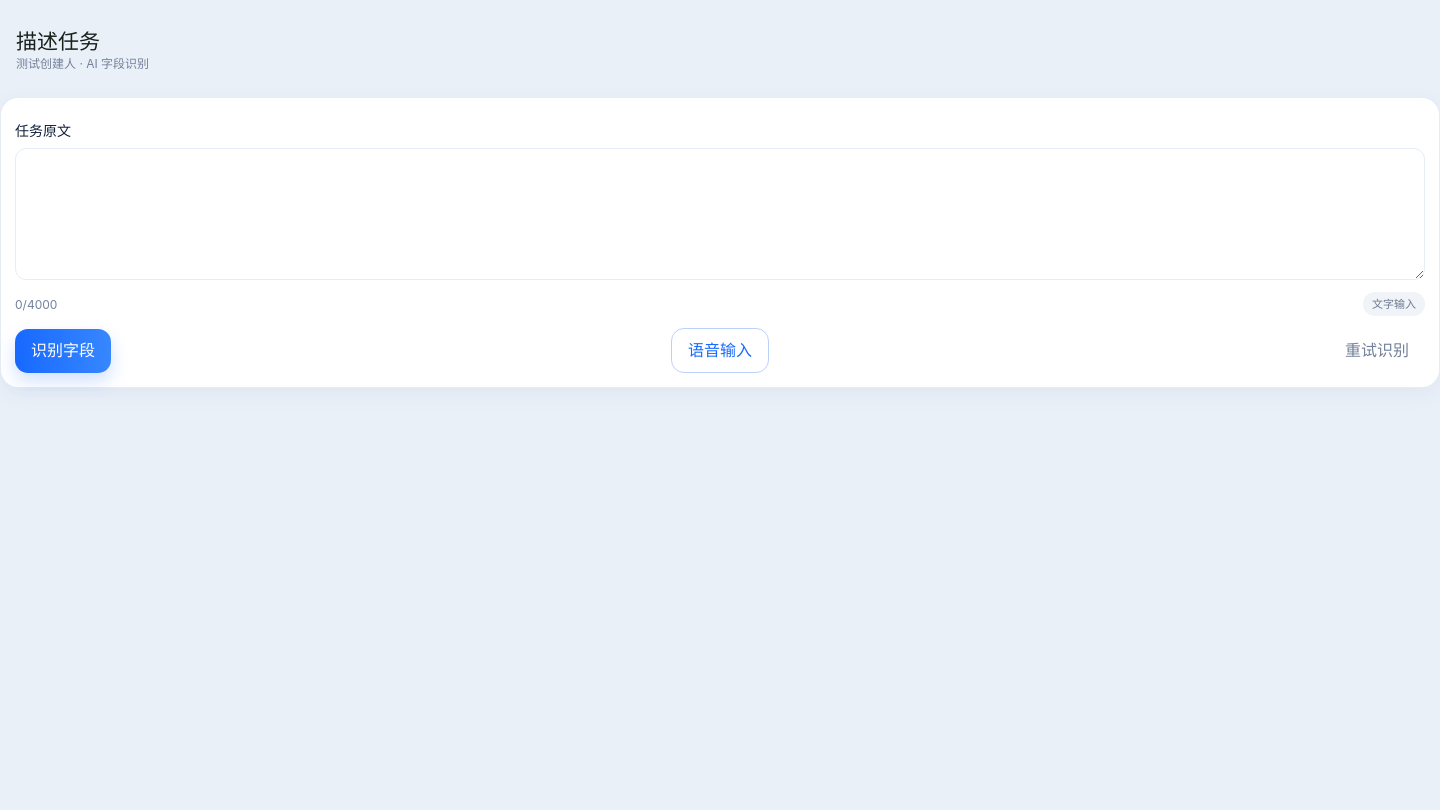
it: TaskIntakePage › retries existing extraction and surfaces safe provider errors
Type "请完成门店上线方案" into the text box labelled "任务原文" at (720, 214), box x1=15 y1=148 x2=1425 y2=280
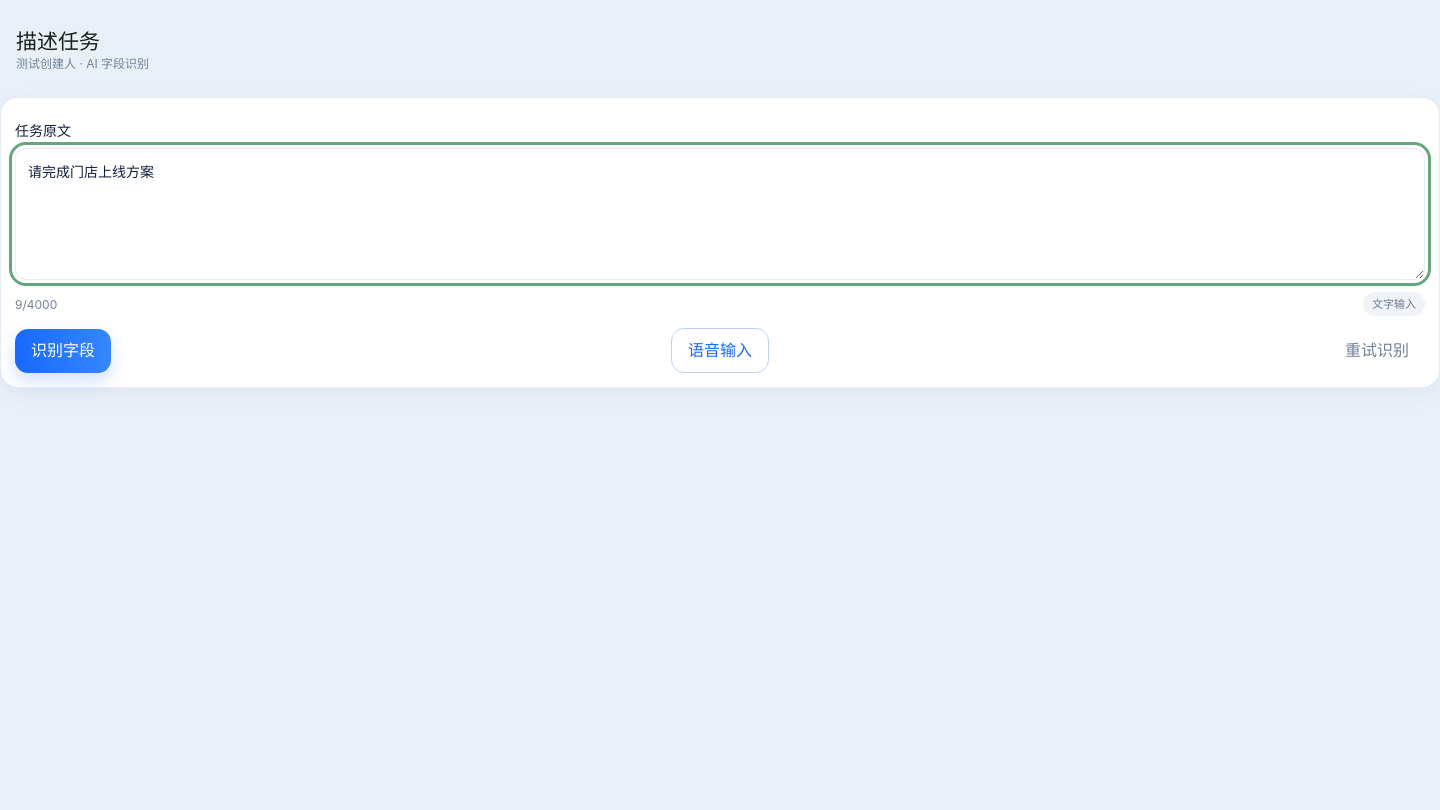
Click the button "识别字段" at (63, 351), box x1=15 y1=329 x2=111 y2=373
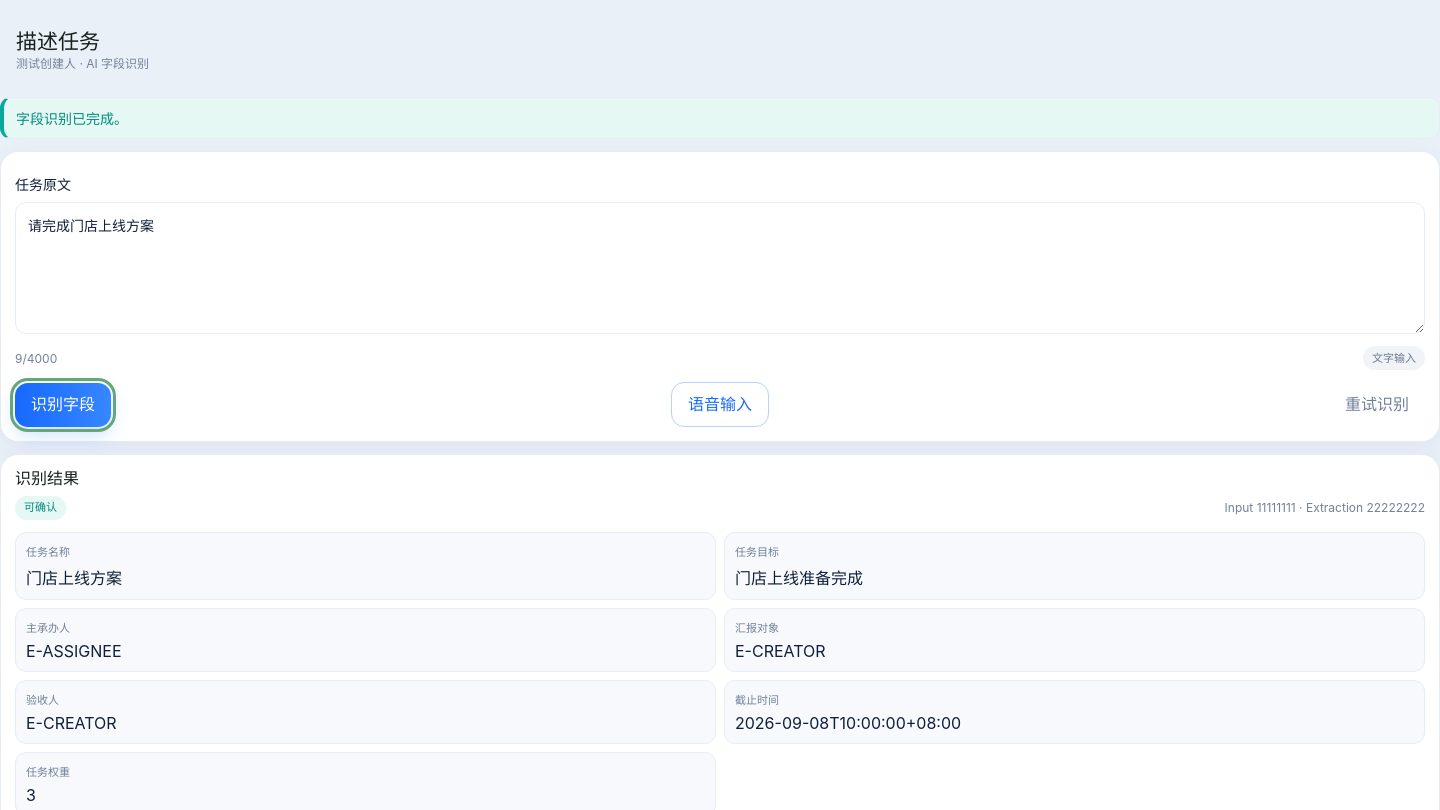
Check: the text "字段识别已完成。" is shown, box x1=0 y1=97 x2=1439 y2=139
Click the button "重试识别" at (1377, 405), box x1=1329 y1=383 x2=1425 y2=427
(page scrolled)
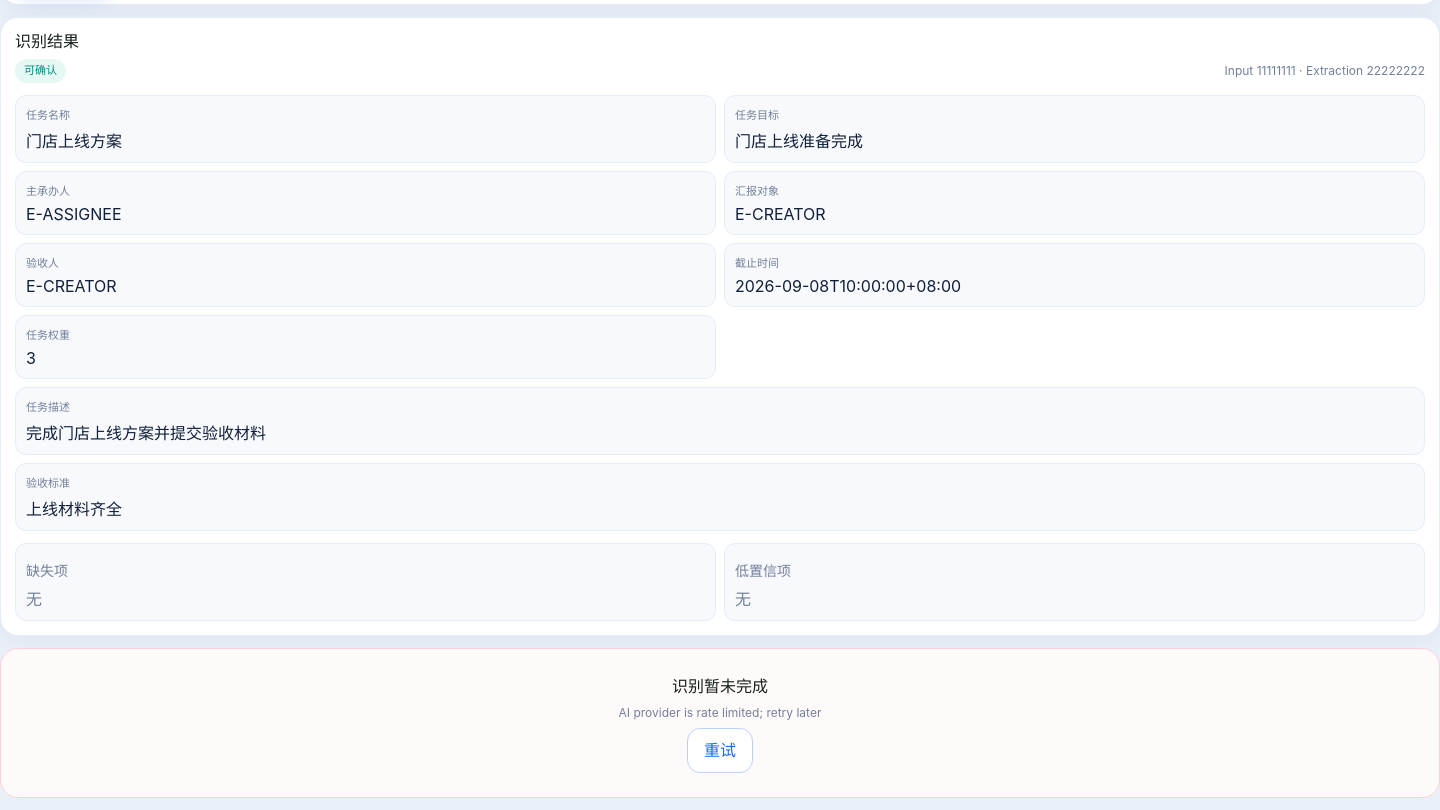
Check: the message shows "AI provider is rate limited; retry later", box x1=619 y1=705 x2=822 y2=720
